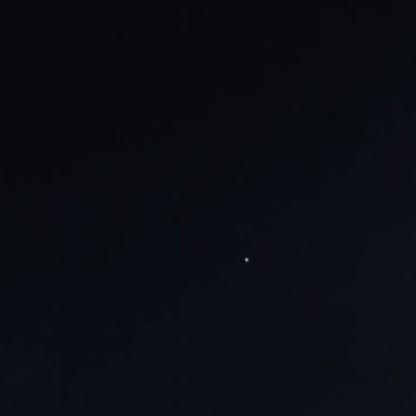ball: (240, 252, 253, 264)
